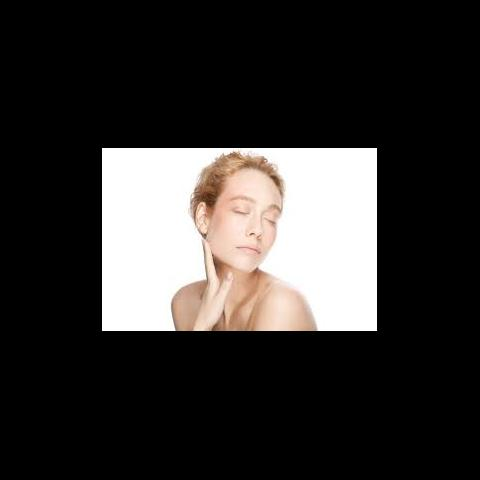closed: (228, 198, 284, 229)
